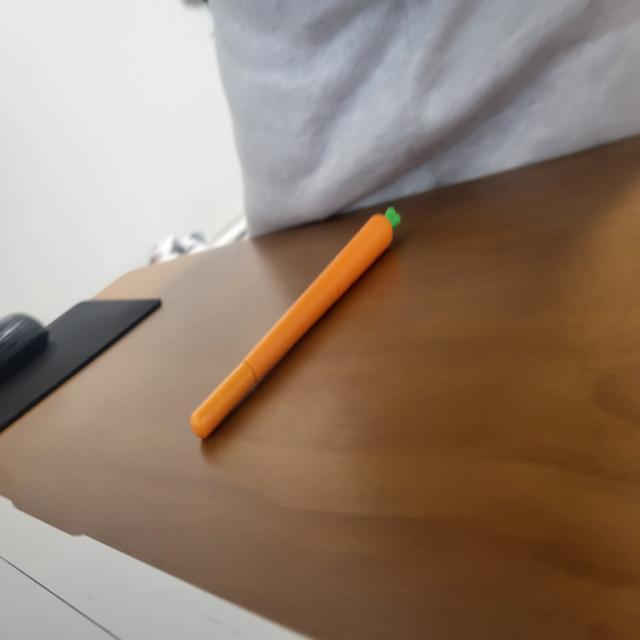carrot: (188, 212, 398, 444)
